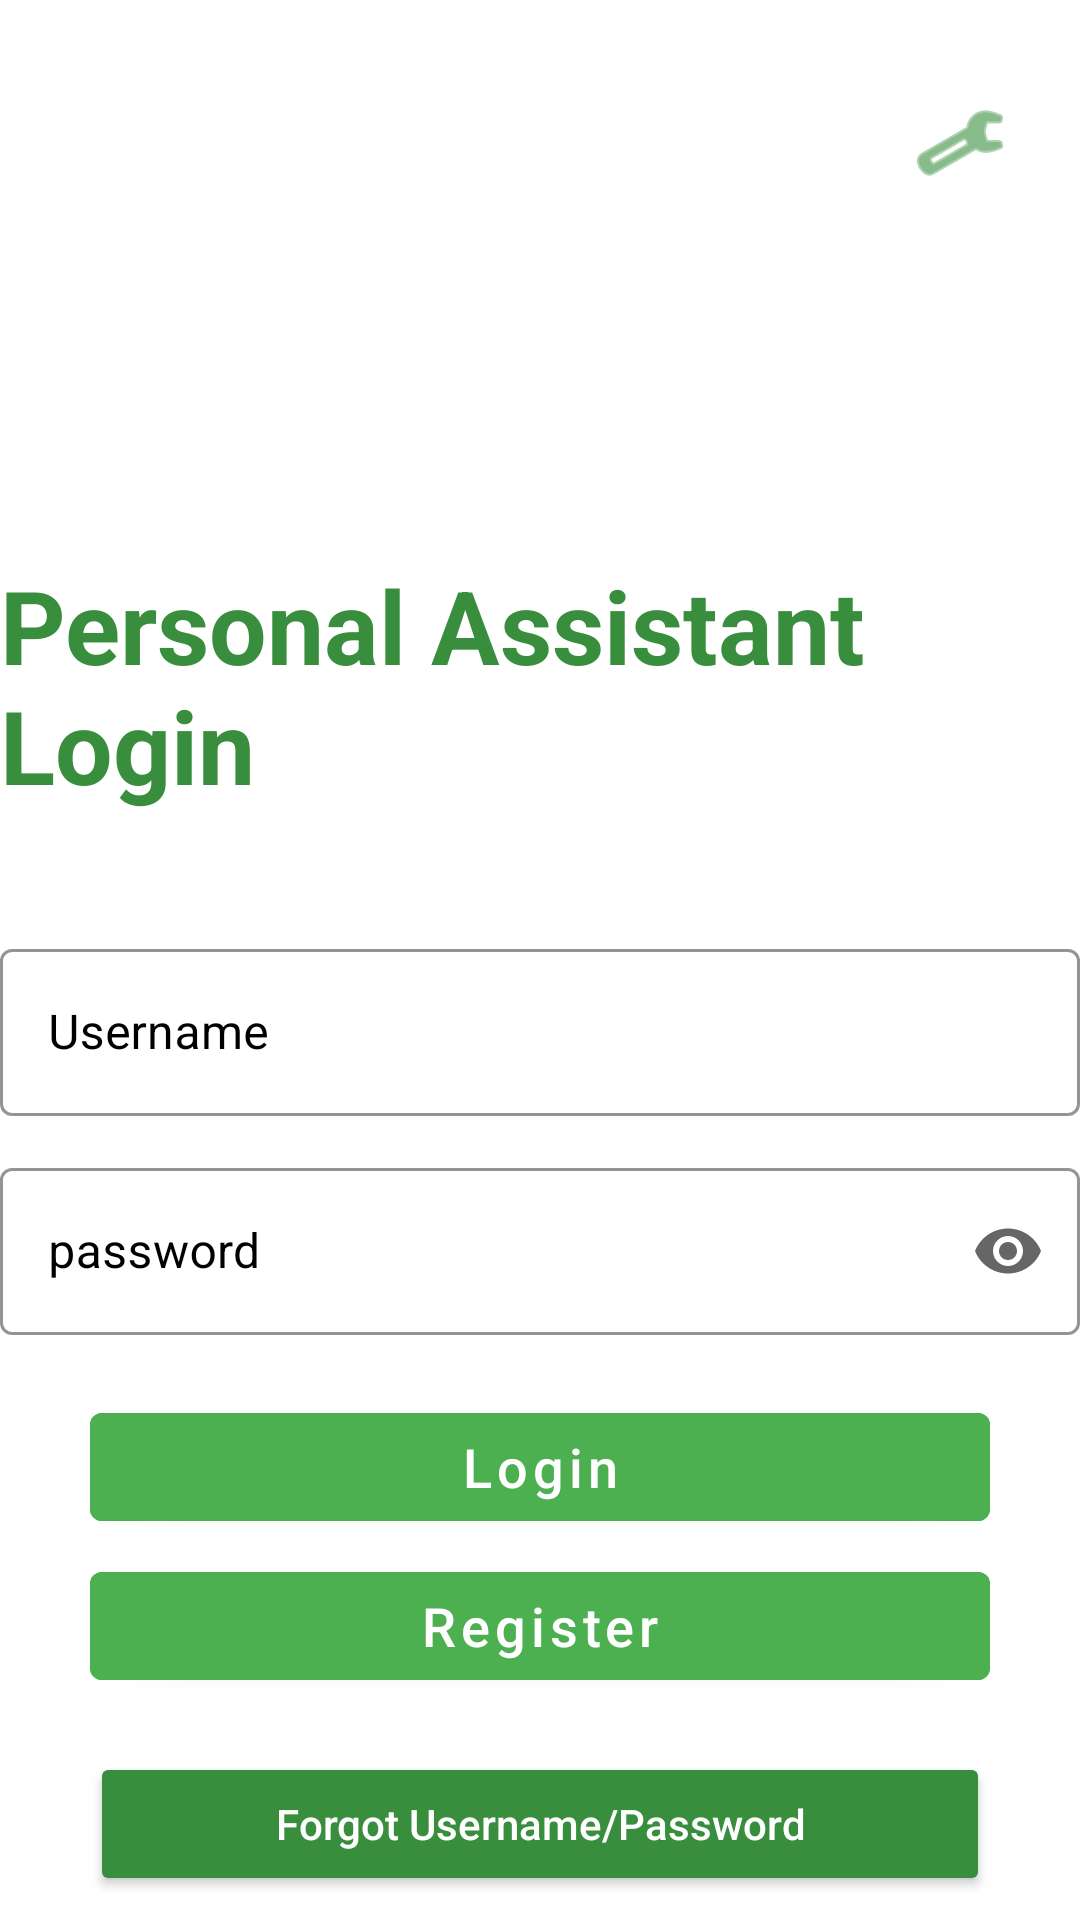

Named icons in this screenshot (1080 x 1920) and their centers, [x,y]:
Theme Settings: [960,143]
